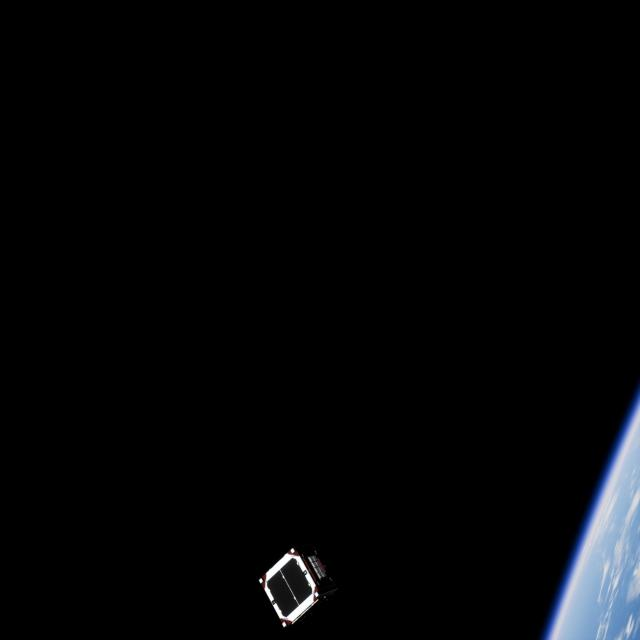medium_debris: (248, 546, 338, 632)
